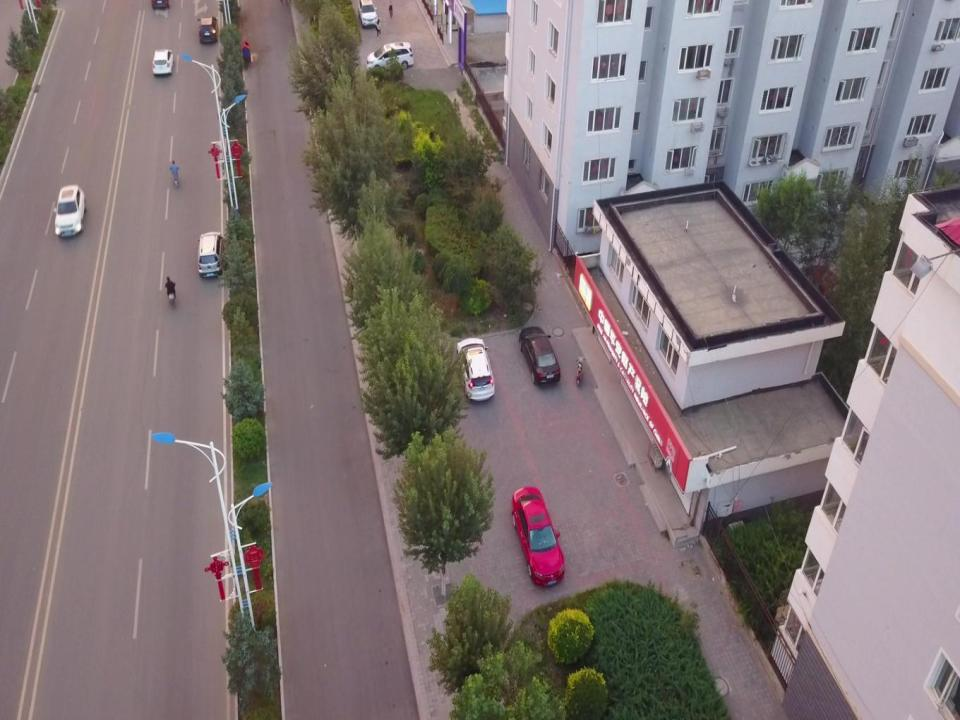car: (512, 486, 565, 587), (456, 337, 496, 403), (519, 326, 560, 386), (54, 185, 86, 238), (365, 41, 414, 74), (197, 232, 225, 278), (197, 16, 219, 44), (152, 49, 174, 76), (358, 0, 378, 28)
